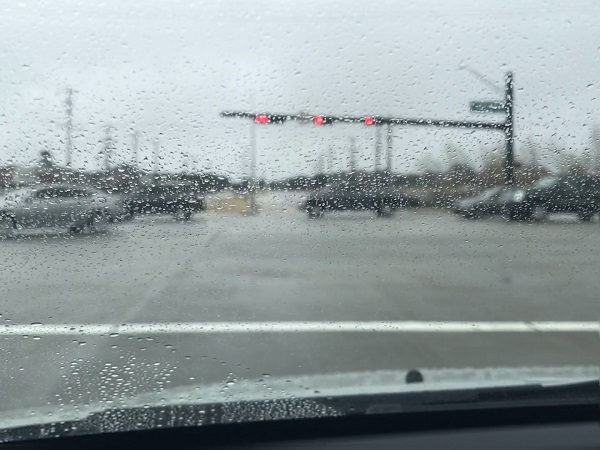car: (1, 184, 120, 235), (505, 174, 598, 224), (115, 183, 208, 220), (455, 185, 514, 218)
traffic light: (311, 112, 328, 126), (251, 111, 267, 125), (360, 115, 372, 126)
truck: (296, 178, 402, 219)
